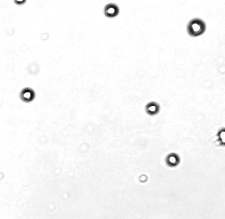Living Cell: (188, 18, 206, 37), (19, 87, 35, 103), (104, 2, 119, 18), (166, 152, 180, 167), (145, 102, 159, 116), (138, 174, 148, 183)
